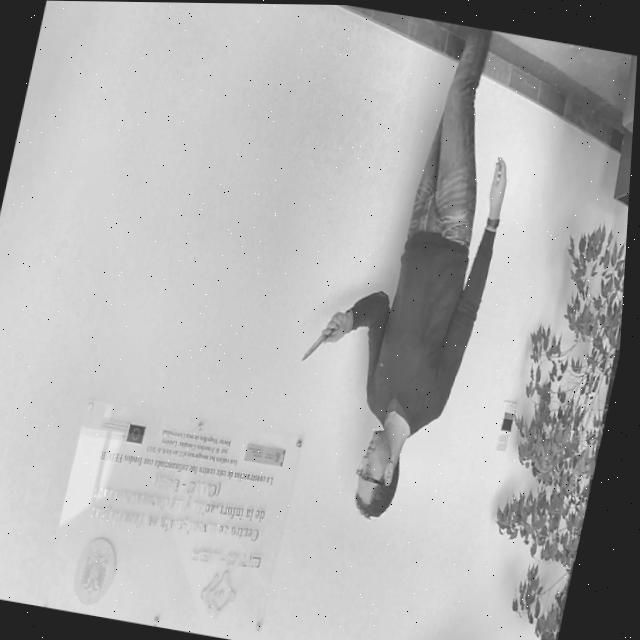knife: (301, 315, 339, 366)
